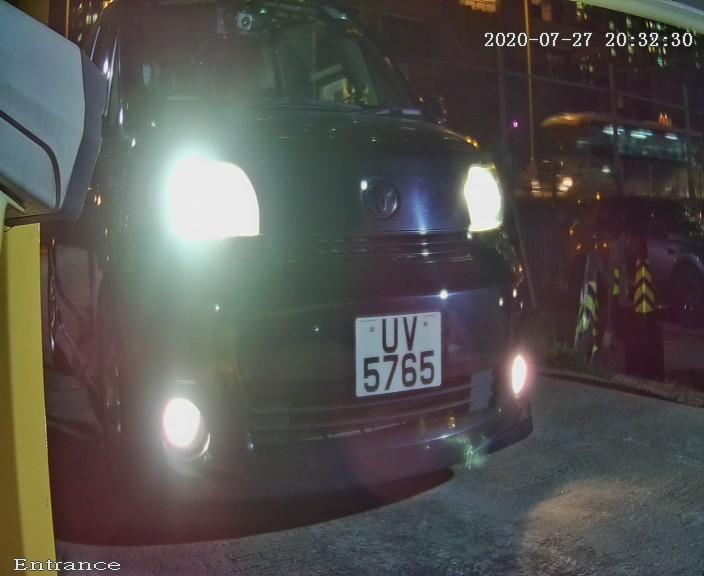privatecar: (89, 6, 541, 538)
